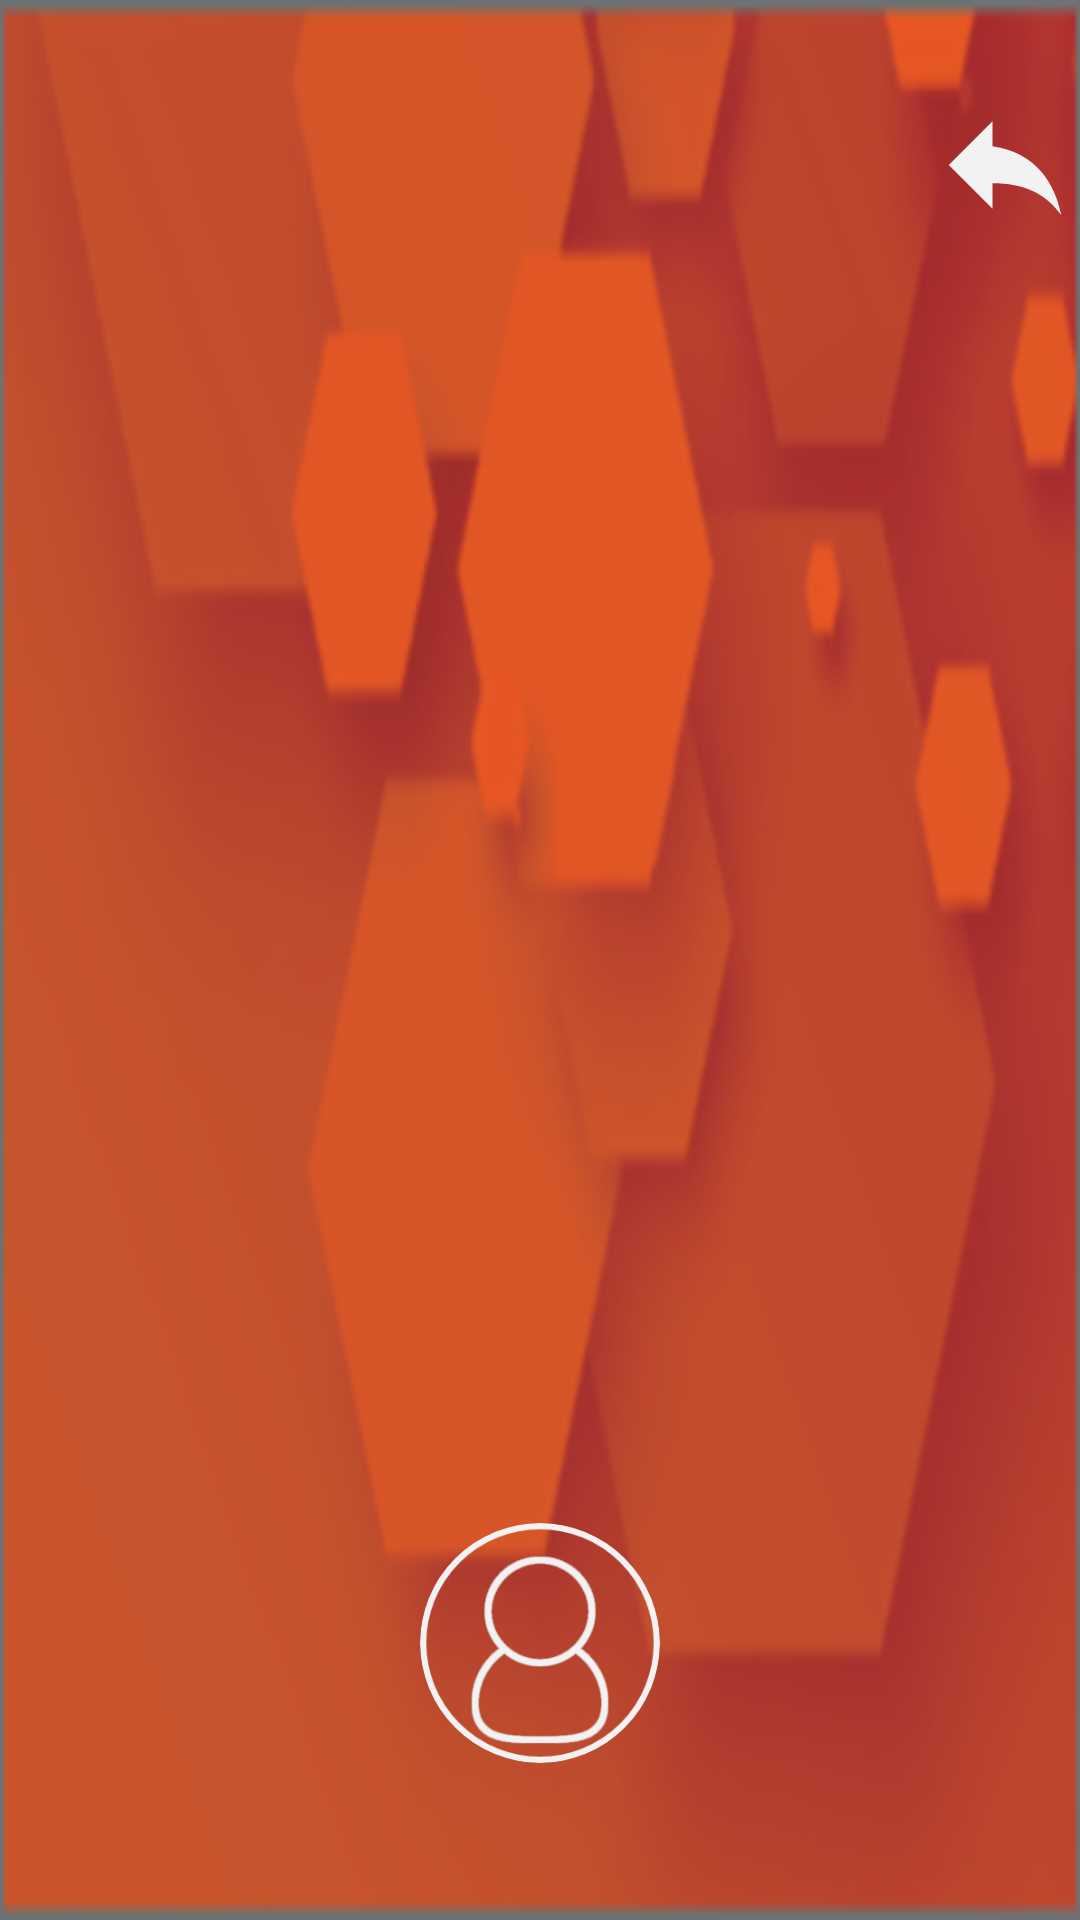

Icon bounding boxes for this 1080px x 1920px phone screenshot, format (x1, y1, x2, y2):
person: (420, 1523, 660, 1763)
